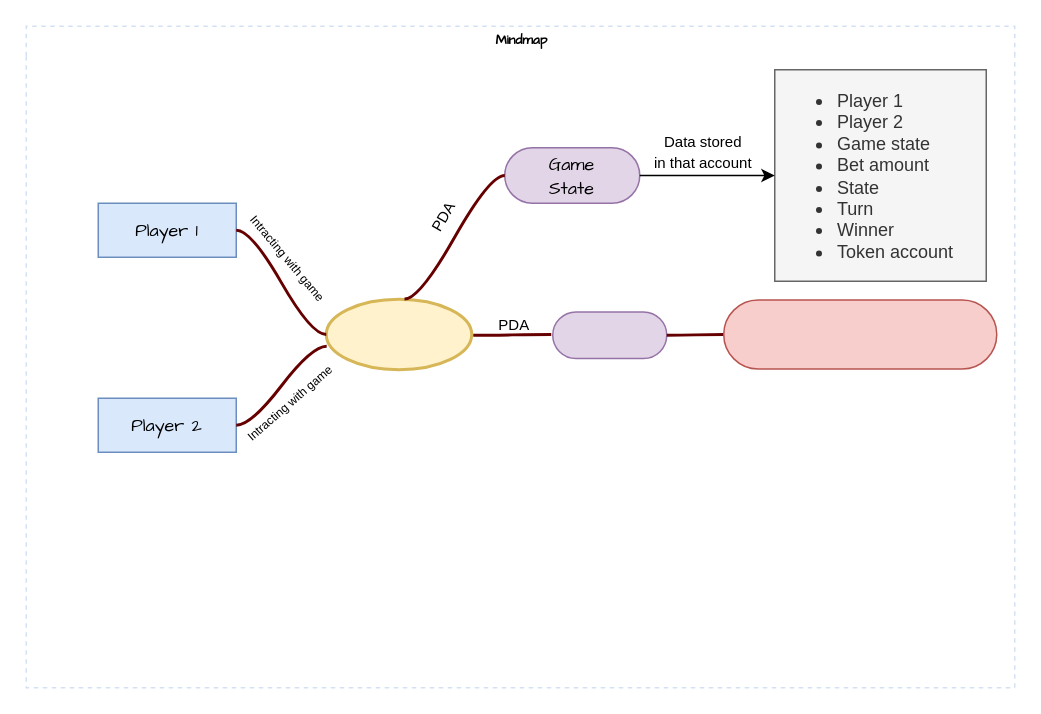
This 1041x714 diagram has some shape labels left out. The shapes that lost their labels are listed below. From the top down, each one's centre as x and y in pixels, then its label:
At point 398,333: "Smart Contract".
At point 609,334: "Wallet".
At point 859,333: "Associated token account Mint XYZ".
